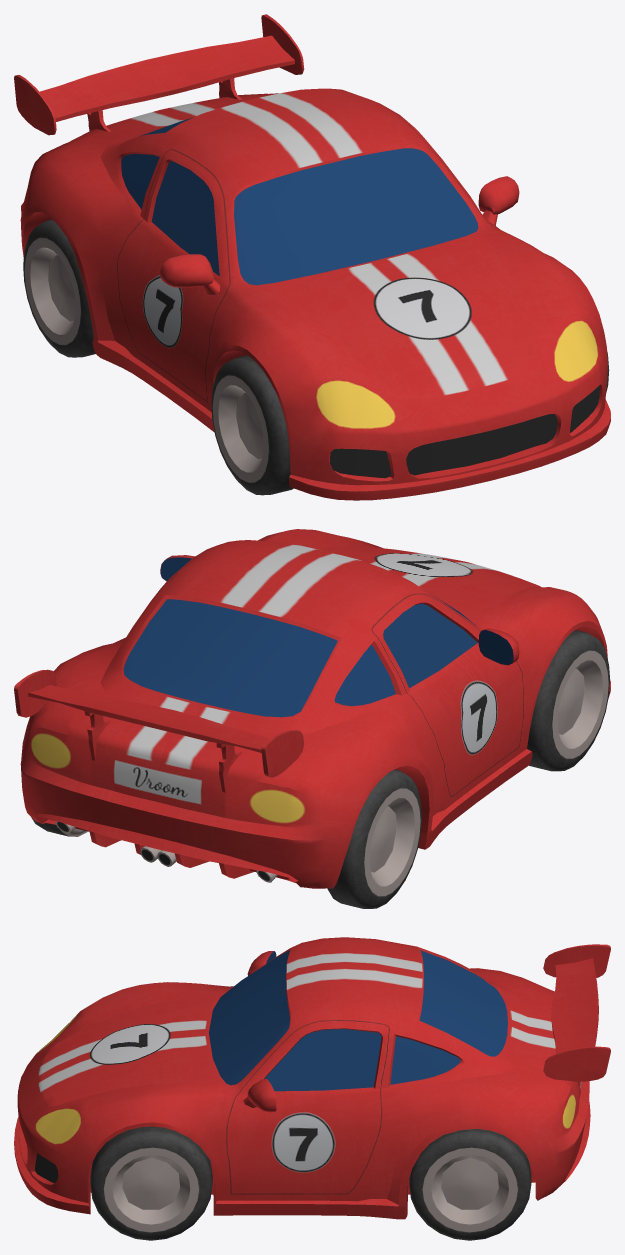
Rendered from toy_racing_car.glb.
3 views of the same model, one above another, from view 1: azimuth 30°, elevation 25°; view 2: azimuth 150°, elevation 25°; view 3: azimuth 270°, elevation 25° (orthographic). The views are drawn at different scales.
Parts seen in each view (by area): view 1: car, wheels; view 2: car, wheels; view 3: car, wheels.
Boxes of the visible parts, <box> form: car: <box>14,14,610,500</box>; wheels: <box>23,219,609,495</box>; car: <box>14,529,610,888</box>; wheels: <box>31,630,609,908</box>; car: <box>14,937,610,1219</box>; wheels: <box>90,1126,531,1240</box>.
Size of the model in its own units: 1.07 by 0.7108 by 1.83.
Materials: 1 (1 with a texture image).
